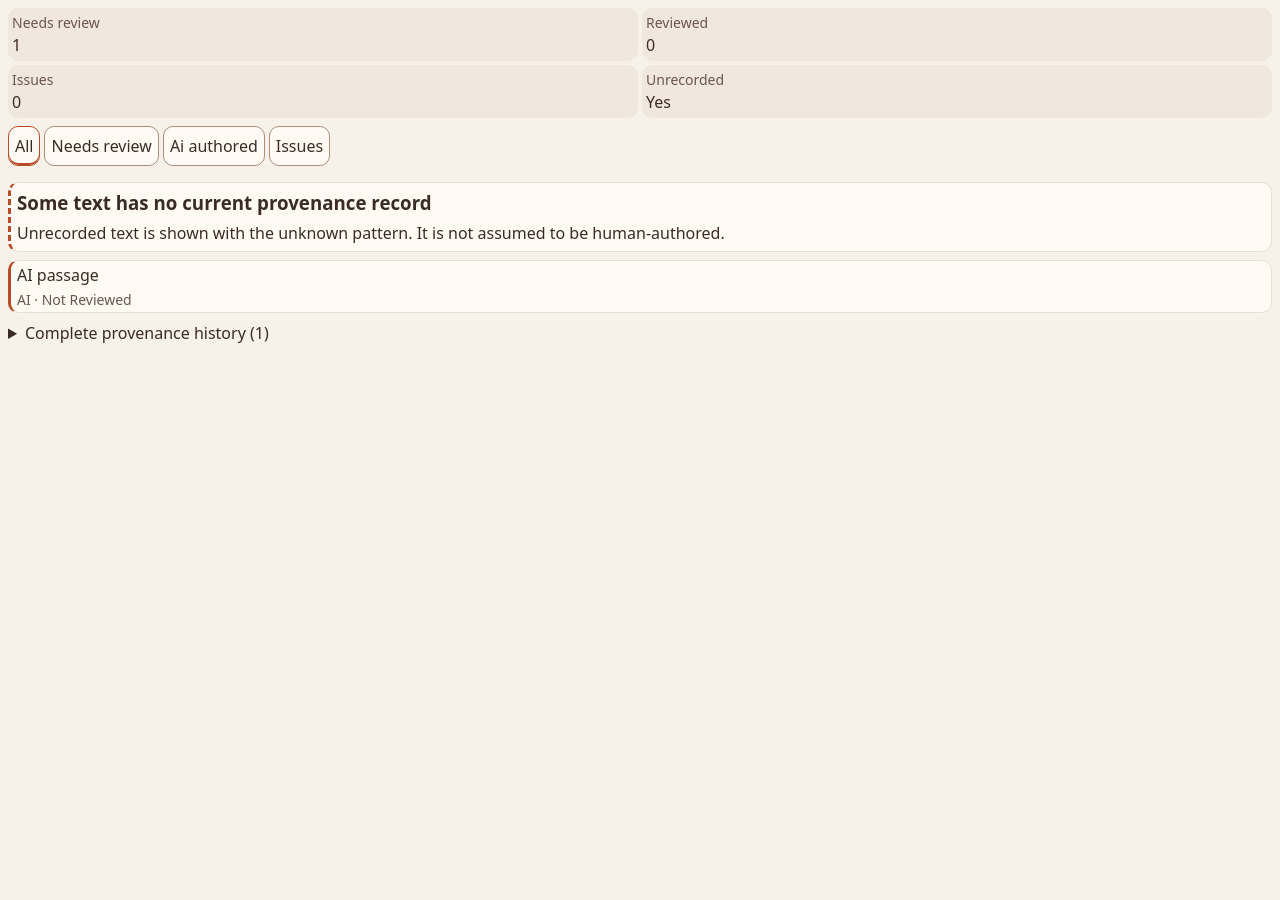
it: ProvenancePanel › shows the bounded producing run for accepted AI proposals
Click the button "AI passage AI · not reviewed": (58, 275) 11,261 -> 1271,312
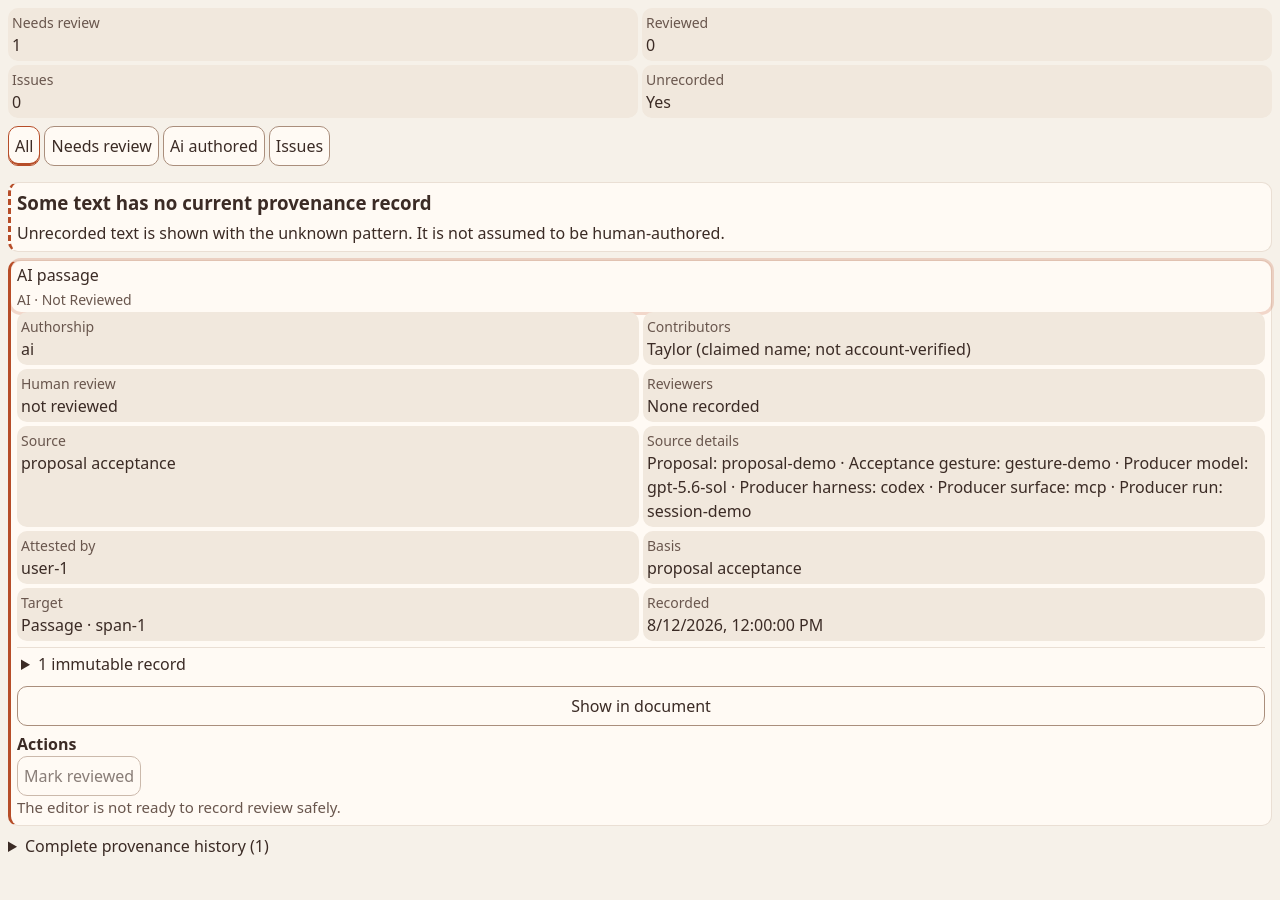
Check: the text "Producer run: session-demo" is shown, box 647,452 -> 1248,522
